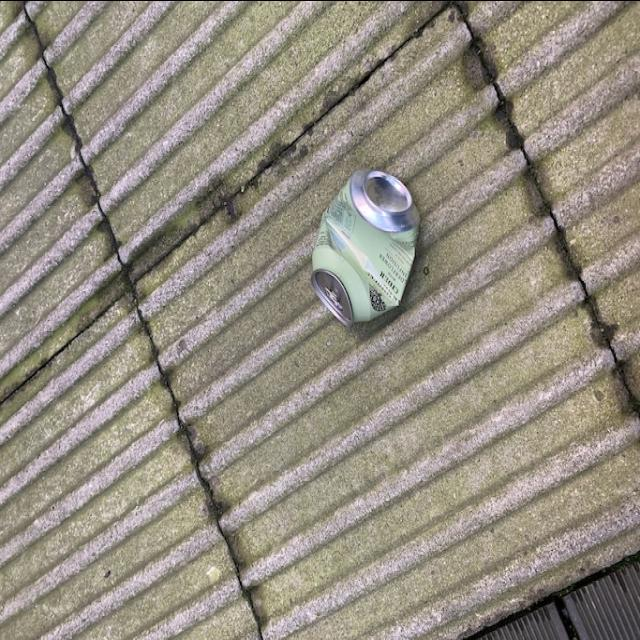Aluminum Can: (310, 162, 431, 326)
